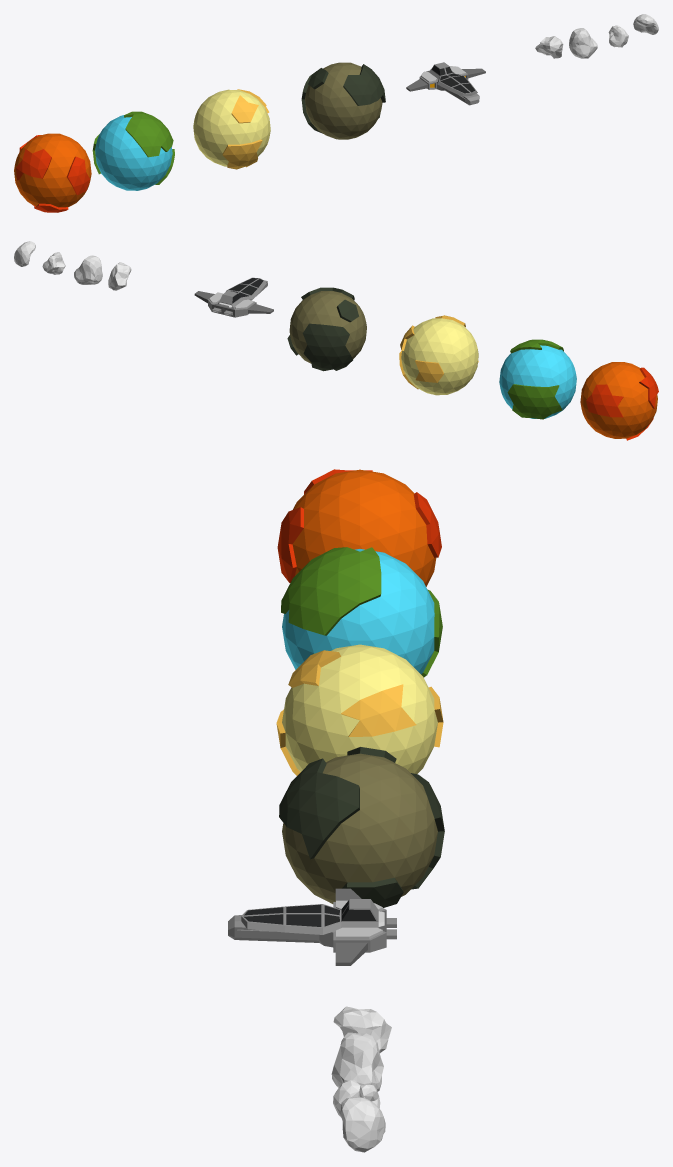
The model's file is ship.fbx.
3 renders of one model, top to bottom at view 1: azimuth 30°, elevation 25°; view 2: azimuth 150°, elevation 25°; view 3: azimuth 270°, elevation 25°, orthographic. The views are drawn at different scales.
Visible parts, largest first — view 1: Icosphere.003, Icosphere, Icosphere.002, Icosphere.001, Cube, rock.006, rock.005, rock.008, rock.007; view 2: Icosphere.003, Icosphere.002, Icosphere, Icosphere.001, Cube, rock.006, rock.005, rock.008, rock.007; view 3: Icosphere.003, Icosphere.002, Icosphere, Icosphere.001, Cube, rock.006, rock.008, rock.005.
Part boxes in pixels (x1,y1,x2,y2): Icosphere.003: (301, 62, 385, 139); Icosphere: (92, 111, 174, 190); Icosphere.002: (193, 89, 270, 169); Icosphere.001: (14, 133, 91, 212); Cube: (406, 62, 485, 105); rock.006: (569, 28, 597, 58); rock.005: (535, 36, 563, 58); rock.008: (633, 14, 658, 34); rock.007: (608, 25, 628, 47); Icosphere.003: (287, 287, 366, 371); Icosphere.002: (399, 315, 478, 395); Icosphere: (499, 339, 576, 419); Icosphere.001: (580, 362, 658, 440); Cube: (194, 277, 273, 317); rock.006: (74, 255, 102, 284); rock.005: (108, 262, 131, 290); rock.008: (14, 241, 35, 266); rock.007: (42, 252, 65, 274); Icosphere.003: (279, 747, 444, 907); Icosphere.002: (276, 644, 443, 775); Icosphere: (281, 547, 442, 677); Icosphere.001: (277, 469, 441, 586); Cube: (228, 888, 396, 965); rock.006: (331, 1032, 383, 1091); rock.008: (340, 1097, 385, 1152); rock.005: (333, 1006, 391, 1053).
Size of the model in its own units: 5505 by 616 by 808.
